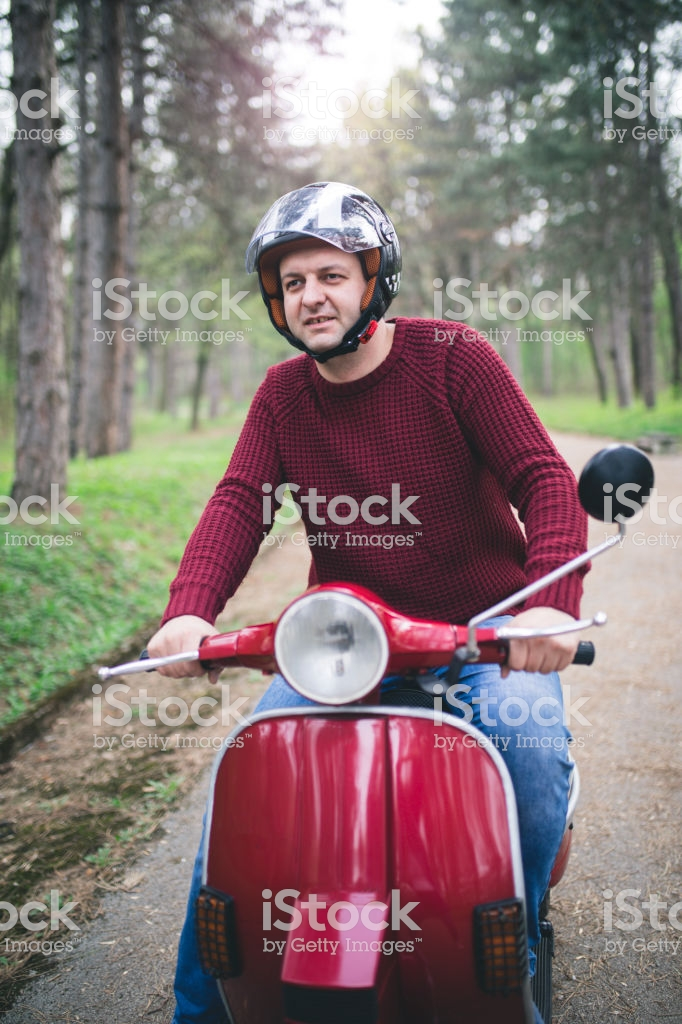helmet: (254, 184, 401, 292)
